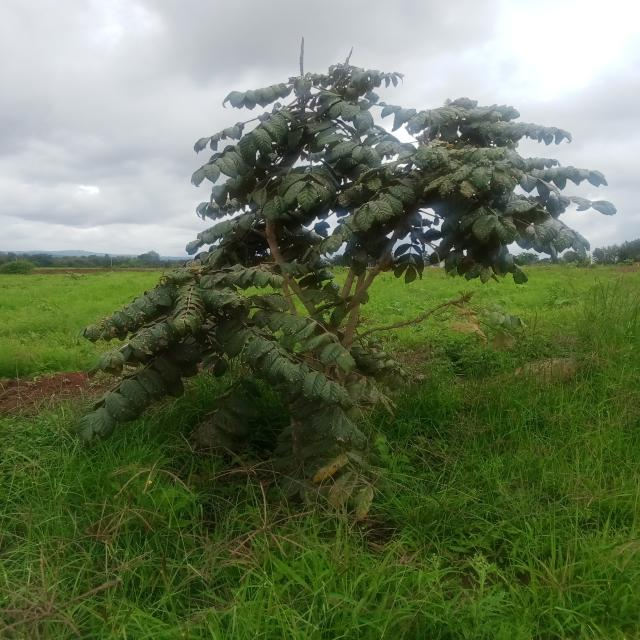Polyscias Kikuyensis: (92, 56, 604, 508)
